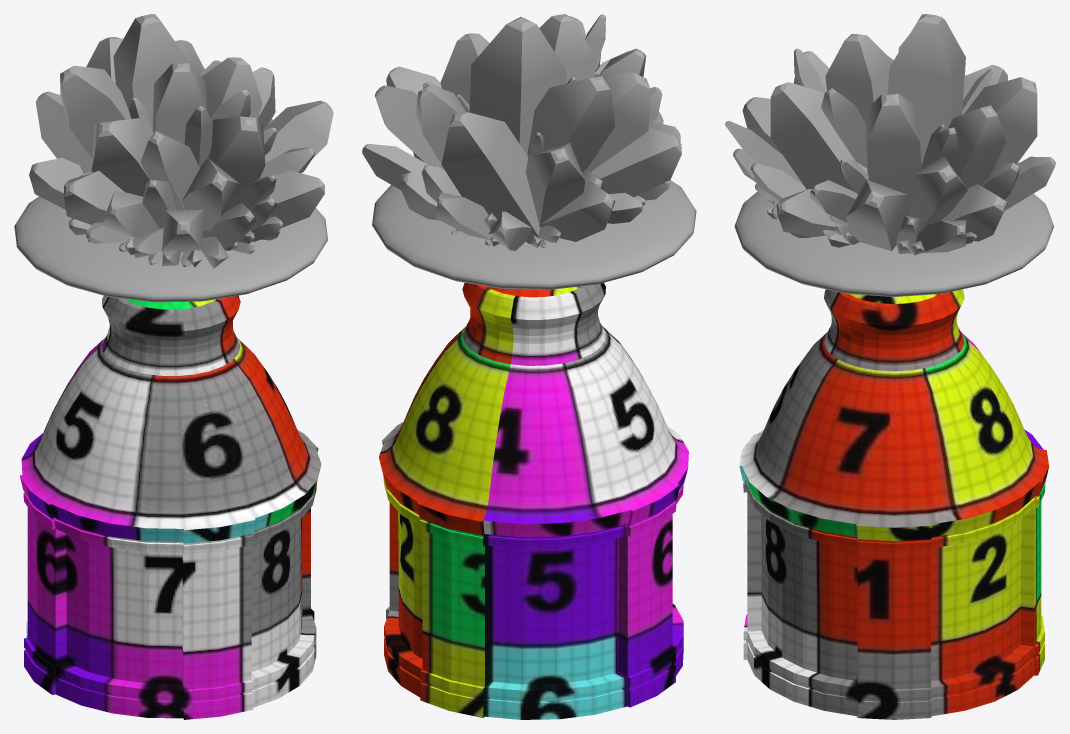
Rendered from aquamarine.fbx.
3 views of the same model, side by side, from view 1: azimuth 30°, elevation 25°; view 2: azimuth 150°, elevation 25°; view 3: azimuth 270°, elevation 25° (orthographic). The views are drawn at different scales.
Visible parts, largest first — view 1: tower1; view 2: tower1; view 3: tower1.
Part boxes in pixels (x1,y1,x2,y2): tower1: (14,14,333,719); tower1: (362,14,696,719); tower1: (725,14,1055,719).
Size of the model in its own units: 458 by 957 by 449.
2 materials, 1 textured.
